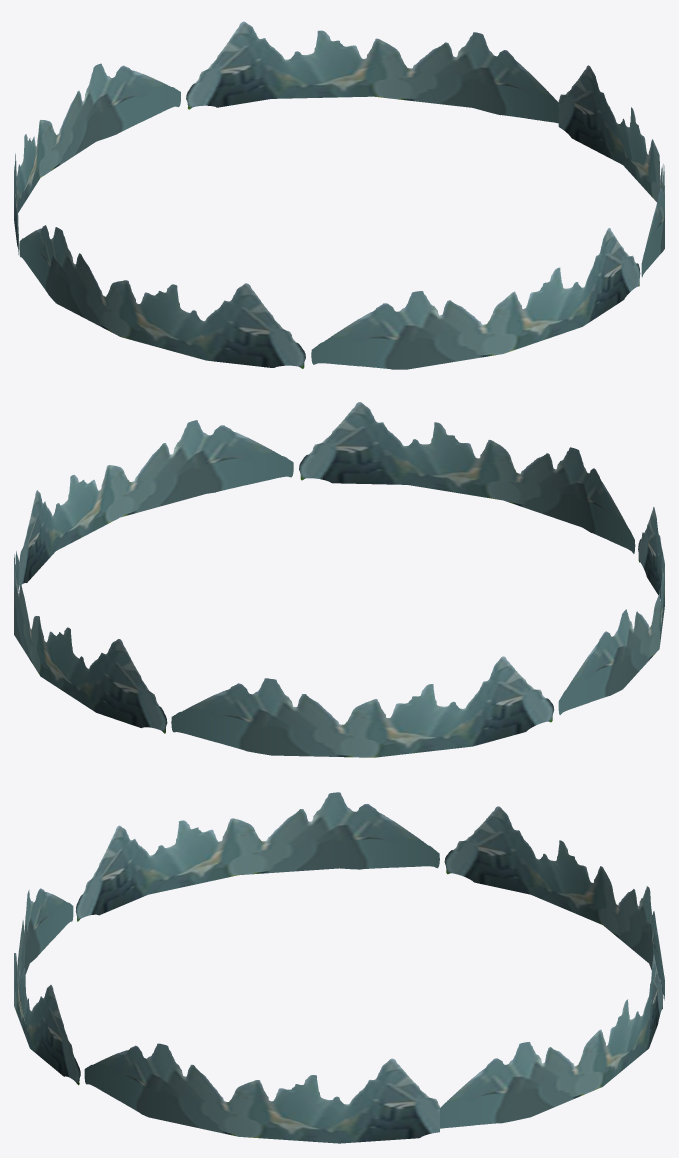
File: env_horizon.fbx
3 views of the same model, one above another, from view 1: azimuth 30°, elevation 25°; view 2: azimuth 150°, elevation 25°; view 3: azimuth 270°, elevation 25° (orthographic).
Parts seen in each view (by area): view 1: env_horizon; view 2: env_horizon; view 3: env_horizon.
Boxes of the visible parts, x1,y1,x2,y2 form: env_horizon: (14,21,664,369); env_horizon: (14,402,664,757); env_horizon: (14,792,664,1143).
Bounding box in the file's own units: 553 × 76.91 × 553.
